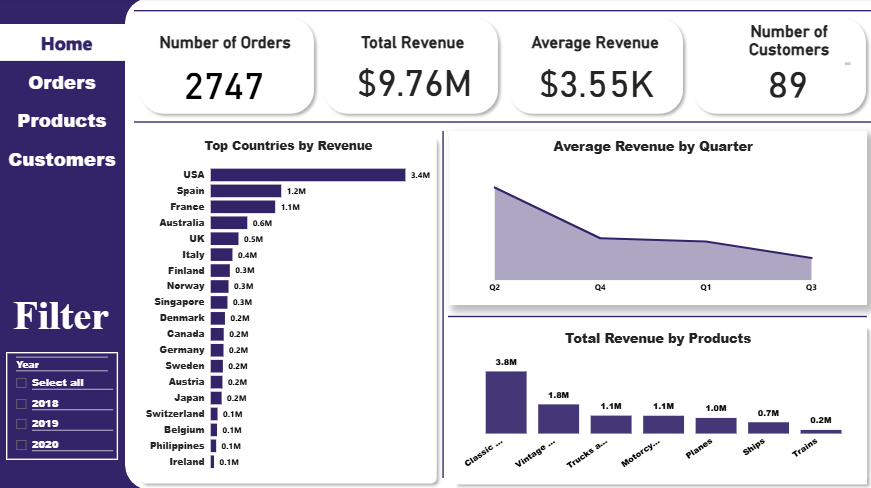

The page's visual inventory and layout, read from the dashboard file:
{"tool":"powerbi","page":{"name":"Home","canvas":[1280,720],"ordinal":0},"visuals":[{"type":"shape","box":[739.9,20.1,272.4,157.9],"z":0,"group":"g1"},{"type":"actionButton","box":[640,36.3,152.9,52],"z":0},{"type":"shape","box":[1009.2,20.1,270.9,157.9],"z":1000,"group":"g1"},{"type":"shape","box":[766.1,244.3,290,138.7],"z":1000},{"type":"shape","box":[0,0,778.5,719.7],"z":2000},{"type":"shape","box":[469,20.1,272.4,157.9],"z":2000,"group":"g1"},{"type":"shape","box":[185.7,0,1094.3,719.7],"z":3000},{"type":"shape","box":[199.7,20.1,272.4,157.9],"z":3000,"group":"g1"},{"type":"actionButton","box":[1.5,38,197.6,54.1],"z":4000},{"type":"textbox","title":"Number of Orders","box":[208.4,50.9,249.2,29.4],"z":4000,"group":"g1"},{"type":"actionButton","box":[1.1,94.6,184.4,54.1],"z":5000},{"type":"textbox","title":"Total Revenue","box":[489.1,51.1,249.2,29.4],"z":6000},{"type":"actionButton","box":[1.1,207.8,184.4,54.1],"z":7000},{"type":"actionButton","box":[1.1,151.2,184.4,54.1],"z":8000},{"type":"group","id":"g1","title":"Group 1","box":[199.7,20.1,1080.3,157.9],"z":9000},{"type":"card","fields":{"Values":["Orders.NumberOf Orders"]},"box":[230.6,85.1,198.1,74.3],"z":10000},{"type":"textbox","title":"Total Revenue","box":[489.1,51.1,236.8,29.4],"z":11000},{"type":"textbox","title":"Average Revenue","box":[760,51.1,229.1,29.4],"z":12000},{"type":"textbox","title":"Number of Customers","box":[1061.8,35.6,190.4,68.1],"z":13000},{"type":"card","fields":{"Values":["Orders.Total Revenue"]},"box":[501.5,85.1,215.1,65],"z":14000},{"type":"card","fields":{"Values":["Orders.AVG Sales"]},"box":[778.5,88.2,195,61.9],"z":15000},{"type":"card","fields":{"Values":["Customers.NumberOf Customers"]},"box":[1114.4,91.3,85.1,60.4],"z":16000},{"type":"shape","box":[199,36.6,1080,289.8],"z":17000},{"type":"shape","box":[501.5,195,298.7,507.7],"z":18000},{"type":"shape","box":[199.7,195,451.9,524.7],"z":19000},{"type":"clusteredBarChart","title":"Top Countries by Revenue","fields":{"Category":["Customers.Country"],"Y":["Sum(Orders.Sales)"]},"box":[209.3,203.4,431.7,499],"z":20000},{"type":"shape","box":[660,194.6,611.7,254.6],"z":21000},{"type":"stackedAreaChart","title":"Average Revenue by Quarter","fields":{"Category":["Orders.Quarter"],"Y":["Avg(Orders.Sales)"]},"box":[659.3,202.8,597.4,238.4],"z":22000},{"type":"shape","box":[658.5,336.6,613.2,259],"z":23000},{"type":"shape","box":[659.3,472.1,620.7,247.6],"z":24000},{"type":"clusteredColumnChart","title":"Total Revenue by Products","fields":{"Category":["Products.Product Line"],"Y":["Sum(Orders.Sales)"]},"box":[660,484.4,611.7,218],"z":25000},{"type":"shape","box":[199.7,0,1080.3,37.1],"z":26000},{"type":"slicer","fields":{"Values":["Orders.Year"]},"box":[11.7,518,163.9,158],"z":27000},{"type":"textbox","box":[10.2,425.9,163.9,115.6],"z":28000}]}

Visuals, with their boxes in screenshot pixels (x1, y1, x2, y2), scaled from the page's 1280x720 canvas onto the 871x488 screenshot:
shape: bbox(503, 14, 689, 121)
actionButton: bbox(436, 25, 540, 60)
shape: bbox(687, 14, 870, 121)
shape: bbox(521, 166, 719, 260)
shape: bbox(0, 0, 530, 487)
shape: bbox(319, 14, 504, 121)
shape: bbox(126, 0, 870, 487)
shape: bbox(136, 14, 321, 121)
actionButton: bbox(1, 26, 135, 62)
"Number of Orders" textbox: bbox(142, 34, 311, 54)
actionButton: bbox(1, 64, 126, 101)
"Total Revenue" textbox: bbox(333, 35, 502, 55)
actionButton: bbox(1, 141, 126, 178)
actionButton: bbox(1, 102, 126, 139)
"Group 1" group: bbox(136, 14, 870, 121)
card - Orders.NumberOf Orders: bbox(157, 58, 292, 108)
"Total Revenue" textbox: bbox(333, 35, 494, 55)
"Average Revenue" textbox: bbox(517, 35, 673, 55)
"Number of Customers" textbox: bbox(723, 24, 852, 70)
card - Orders.Total Revenue: bbox(341, 58, 488, 102)
card - Orders.AVG Sales: bbox(530, 60, 662, 102)
card - Customers.NumberOf Customers: bbox(758, 62, 816, 103)
shape: bbox(135, 25, 870, 221)
shape: bbox(341, 132, 545, 476)
shape: bbox(136, 132, 443, 487)
"Top Countries by Revenue" clusteredBarChart: bbox(142, 138, 436, 476)
shape: bbox(449, 132, 865, 304)
"Average Revenue by Quarter" stackedAreaChart: bbox(449, 137, 855, 299)
shape: bbox(448, 228, 865, 404)
shape: bbox(449, 320, 870, 487)
"Total Revenue by Products" clusteredColumnChart: bbox(449, 328, 865, 476)
shape: bbox(136, 0, 870, 25)
slicer - Orders.Year: bbox(8, 351, 119, 458)
textbox: bbox(7, 289, 118, 367)
